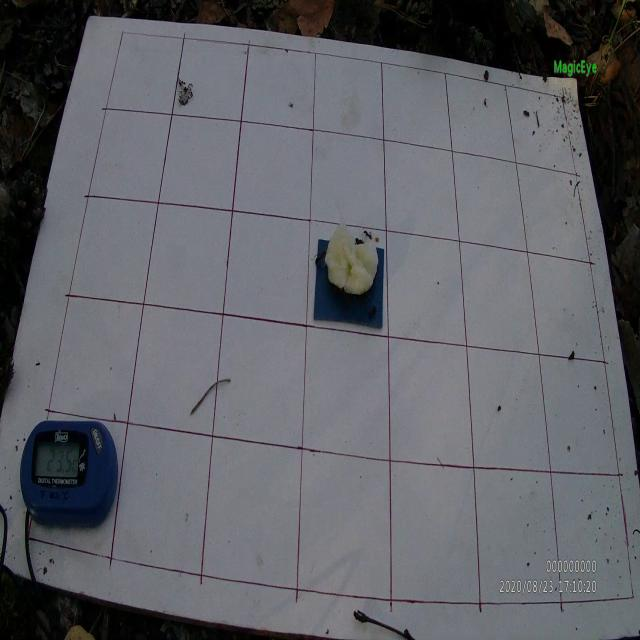Ant: (310, 250, 326, 266), (362, 228, 373, 241)
